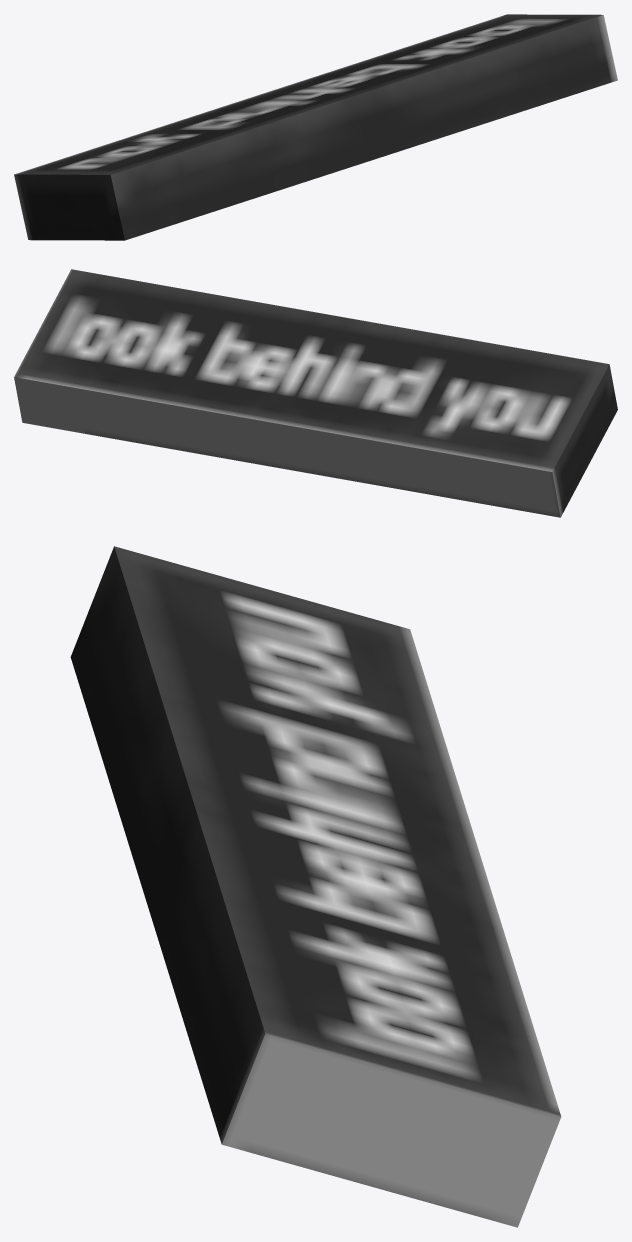
The model's file is look_behind_you_sign.fbx.
3 renders of one model, top to bottom at view 1: azimuth 30°, elevation 25°; view 2: azimuth 150°, elevation 25°; view 3: azimuth 270°, elevation 25°, orthographic. The views are drawn at different scales.
Visible parts, largest first — view 1: Cube.041; view 2: Cube.041; view 3: Cube.041.
Part boxes in pixels (<box>): Cube.041: <box>14,14,617,240</box>; Cube.041: <box>14,269,617,517</box>; Cube.041: <box>70,546,561,1227</box>.
Size of the model in its own units: 115 by 22 by 46.85.
1 material, 1 textured.
